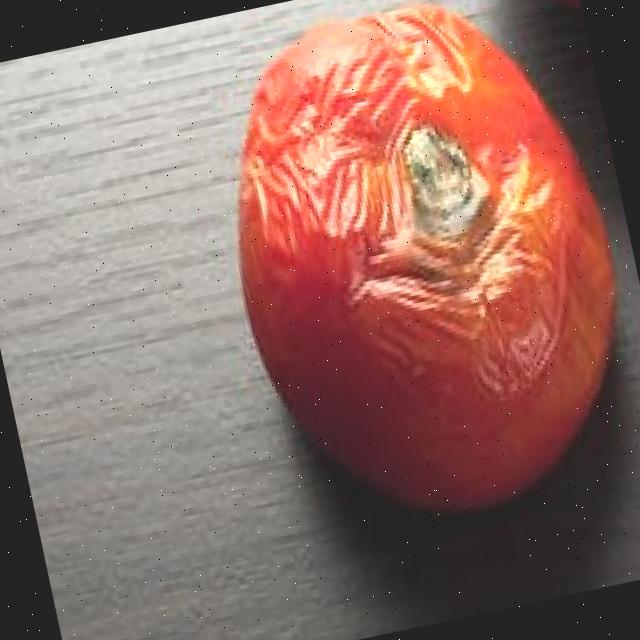overripe: (187, 0, 640, 549)
